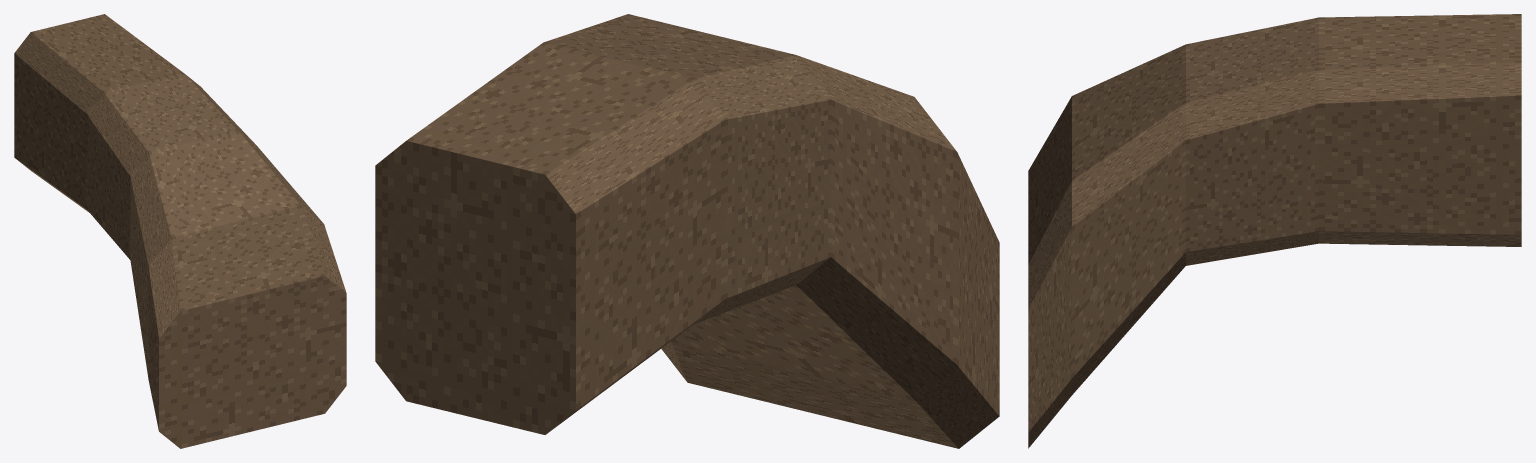
The model's file is workpiece_forged_hoe_rough.obj.
3 views of the same model, side by side, from view 1: azimuth 30°, elevation 25°; view 2: azimuth 150°, elevation 25°; view 3: azimuth 270°, elevation 25° (orthographic). The views are drawn at different scales.
Parts seen in each view (by area): view 1: geometry; view 2: geometry; view 3: geometry.
Boxes of the visible parts, left/top/right/bottom form: geometry: left=14, top=14, right=346, bottom=448; geometry: left=375, top=14, right=999, bottom=448; geometry: left=1028, top=14, right=1521, bottom=448.
Bounding box in the file's own units: 0.2725 × 0.3788 × 0.4656.
